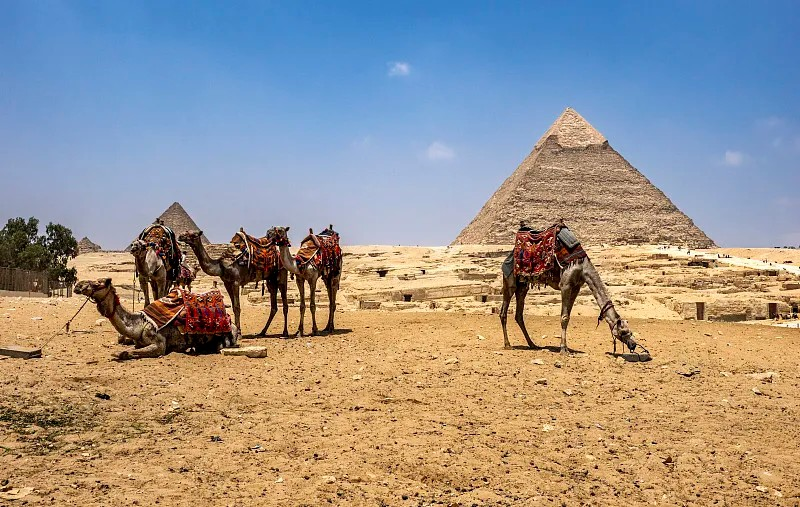Pyramid: (448, 107, 717, 248), (157, 202, 210, 242)
